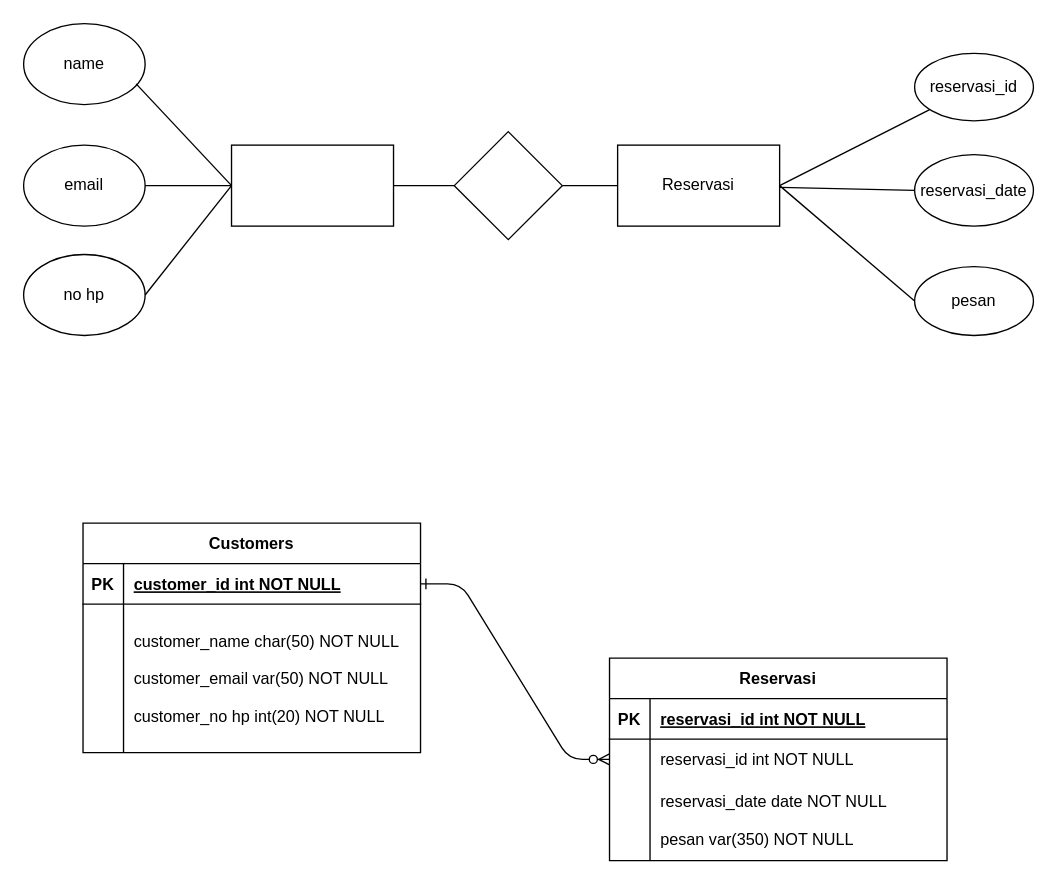
The diagram is 1057 pixels wide and 884 high, and some of its shapes have lost their labels. Here are the shapes that lost their labels. From the top down, the centre of each, then its label:
At [312,185]: "costumer".
At [507,185]: "melengkapi".
